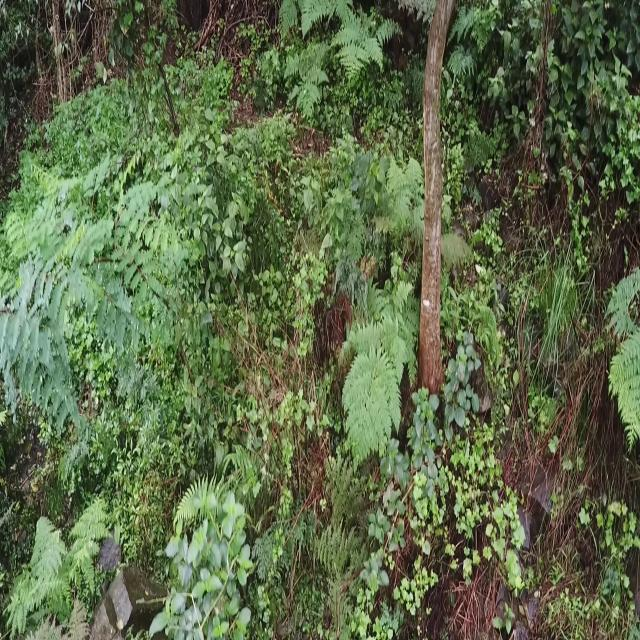Mysore-Thorn-Weed: (0, 131, 205, 428)
